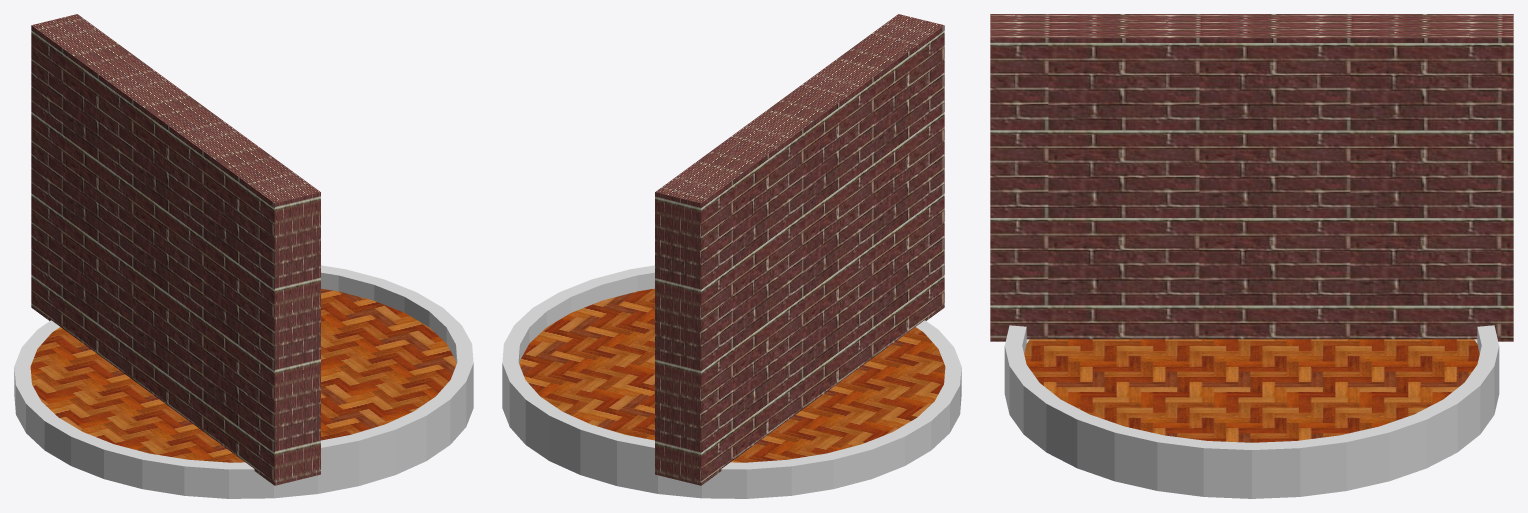
File: stage but shit .fbx
The picture shows the model from 3 angles, left to right: view 1: azimuth 30°, elevation 25°; view 2: azimuth 150°, elevation 25°; view 3: azimuth 270°, elevation 25°; orthographic projection. The views are drawn at different scales.
Visible parts, largest first — view 1: Cube, Cylinder.001, Cylinder.002; view 2: Cube, Cylinder.001, Cylinder.002; view 3: Cube, Cylinder.001, Cylinder.002.
Boxes of the visible parts, box(x1,y1,x2,y2) form: Cube: box(31, 14, 320, 485); Cylinder.001: box(30, 288, 456, 462); Cylinder.002: box(14, 265, 473, 498); Cube: box(655, 14, 944, 485); Cylinder.001: box(519, 288, 945, 462); Cylinder.002: box(502, 265, 961, 498); Cube: box(990, 14, 1513, 341); Cylinder.001: box(1024, 339, 1479, 442); Cylinder.002: box(1004, 325, 1499, 498).
Bounding box in the file's own units: 871 × 647 × 921.
Materials: 3 (2 with a texture image).
